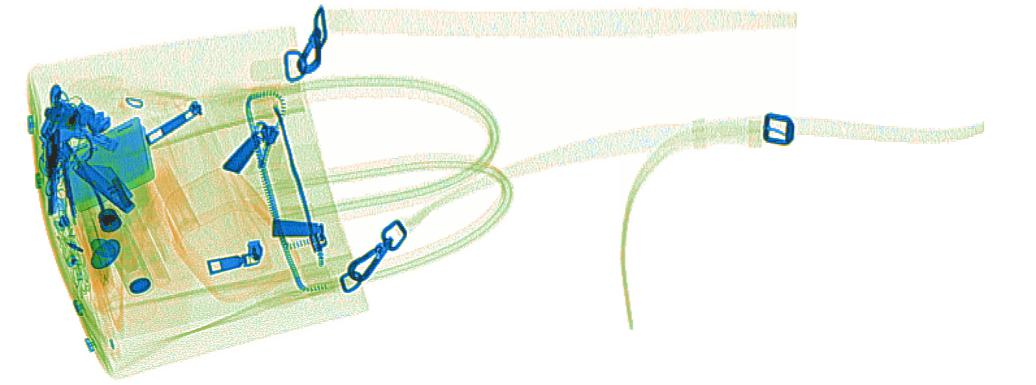knife: (71, 156, 137, 215)
